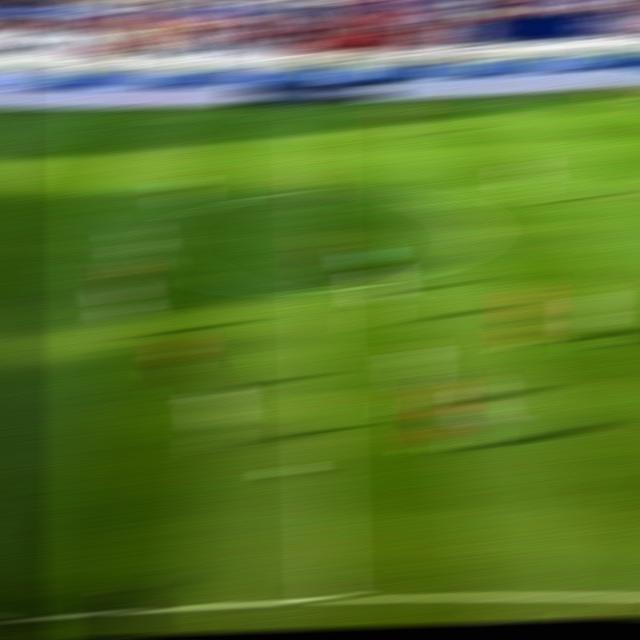halfcircle_bottom: (296, 274, 342, 306)
halfcircle_top: (297, 180, 341, 202)
midline_bottom_intersection: (303, 580, 353, 609)
midline_top_intersection: (297, 105, 334, 124)
